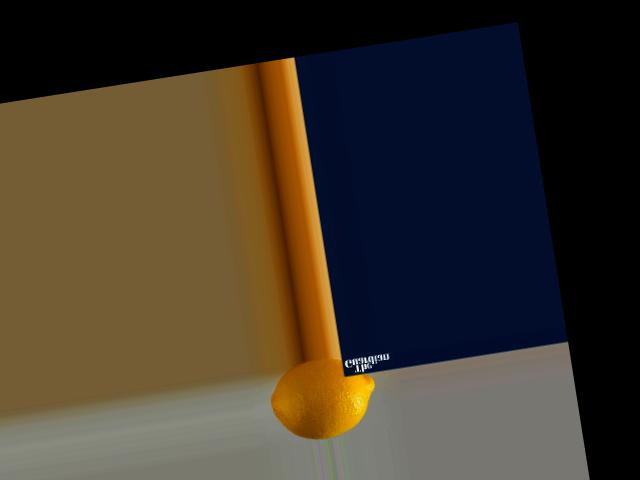lemon: (259, 349, 387, 447)
